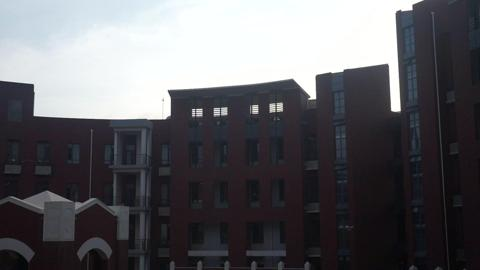UAV: (346, 226, 354, 230)
